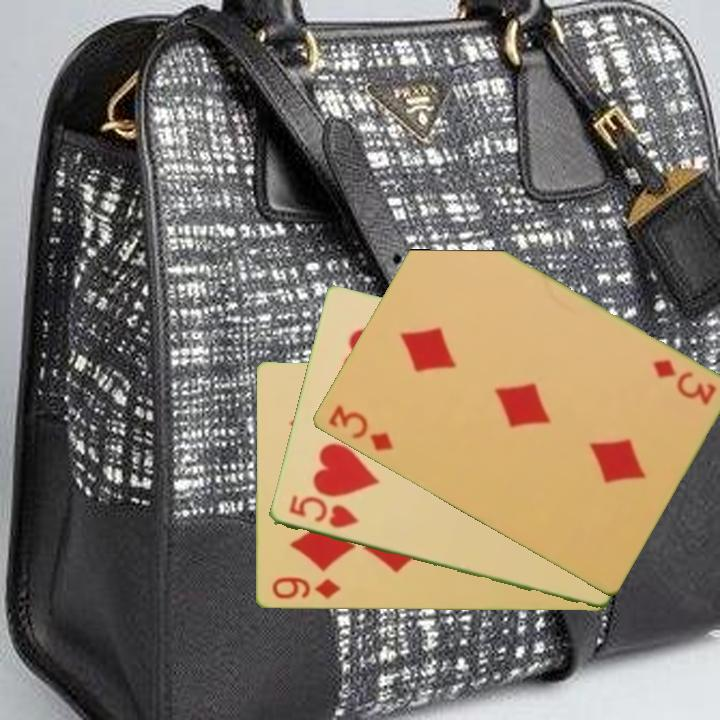3d: (324, 401, 396, 455), (649, 356, 719, 409)
5h: (285, 492, 361, 532)
9d: (268, 574, 343, 602)
